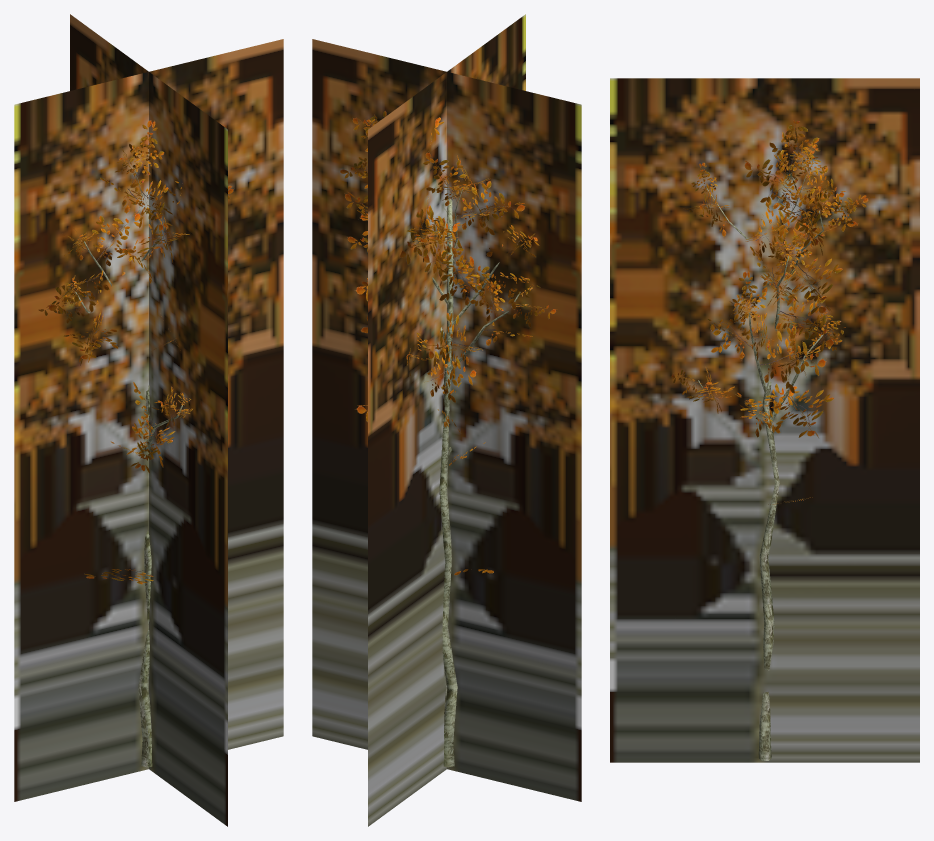
File: Tree-Beech0C-mobile.fbx
3 renders of one model, left to right at view 1: azimuth 30°, elevation 25°; view 2: azimuth 150°, elevation 25°; view 3: azimuth 270°, elevation 25°, orthographic.
Visible parts, largest first — view 1: Billboard-BeechC, Tree-Beech0C-mobile_LOD0; view 2: Billboard-BeechC, Tree-Beech0C-mobile_LOD0; view 3: Billboard-BeechC, Tree-Beech0C-mobile_LOD0.
Boxes of the visible parts, <box> form: Billboard-BeechC: <box>14,14,283,826</box>; Tree-Beech0C-mobile_LOD0: <box>38,120,233,767</box>; Billboard-BeechC: <box>312,14,581,826</box>; Tree-Beech0C-mobile_LOD0: <box>340,111,556,767</box>; Billboard-BeechC: <box>610,78,919,762</box>; Tree-Beech0C-mobile_LOD0: <box>671,120,868,760</box>.
Size of what is drawn, in the model's own units: 1071 by 2649 by 1088.
